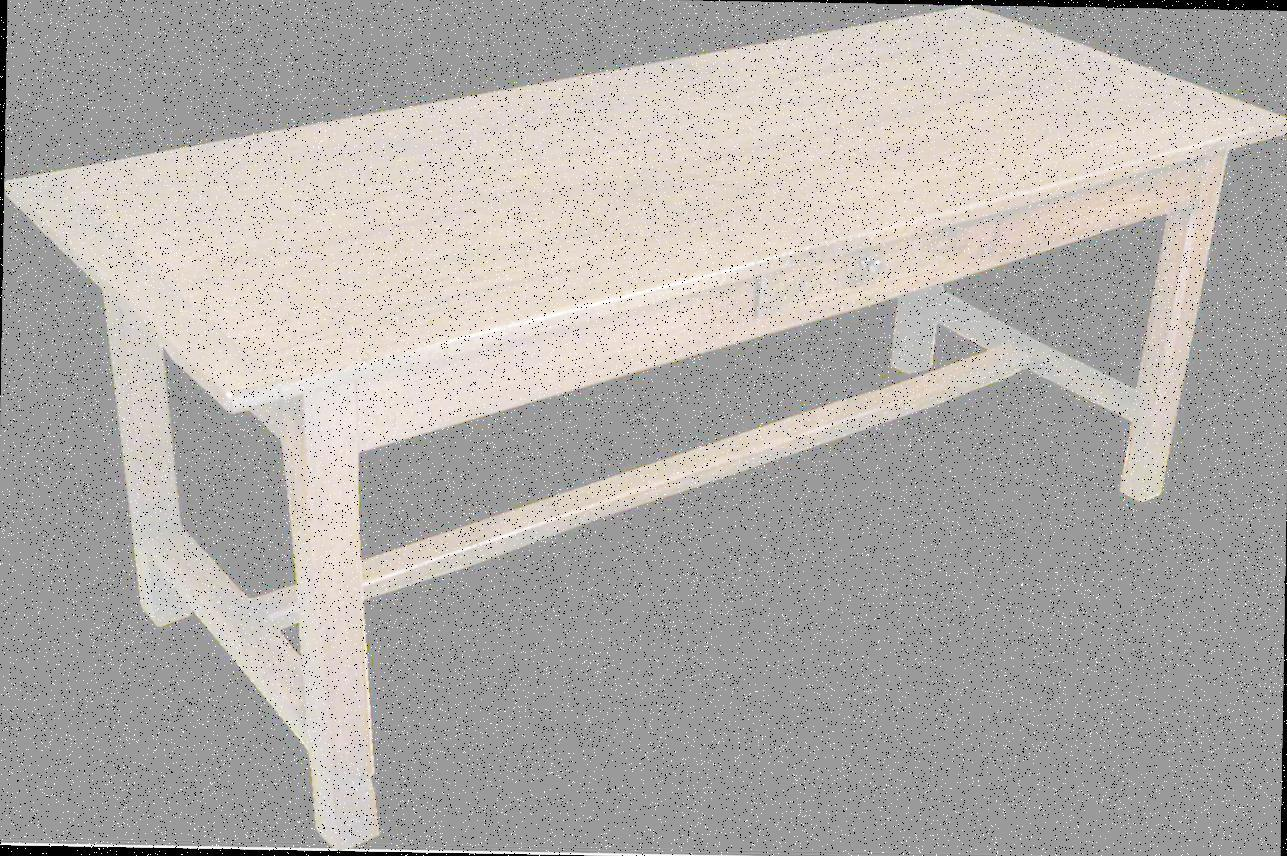Mesa: (13, 0, 1281, 855)
